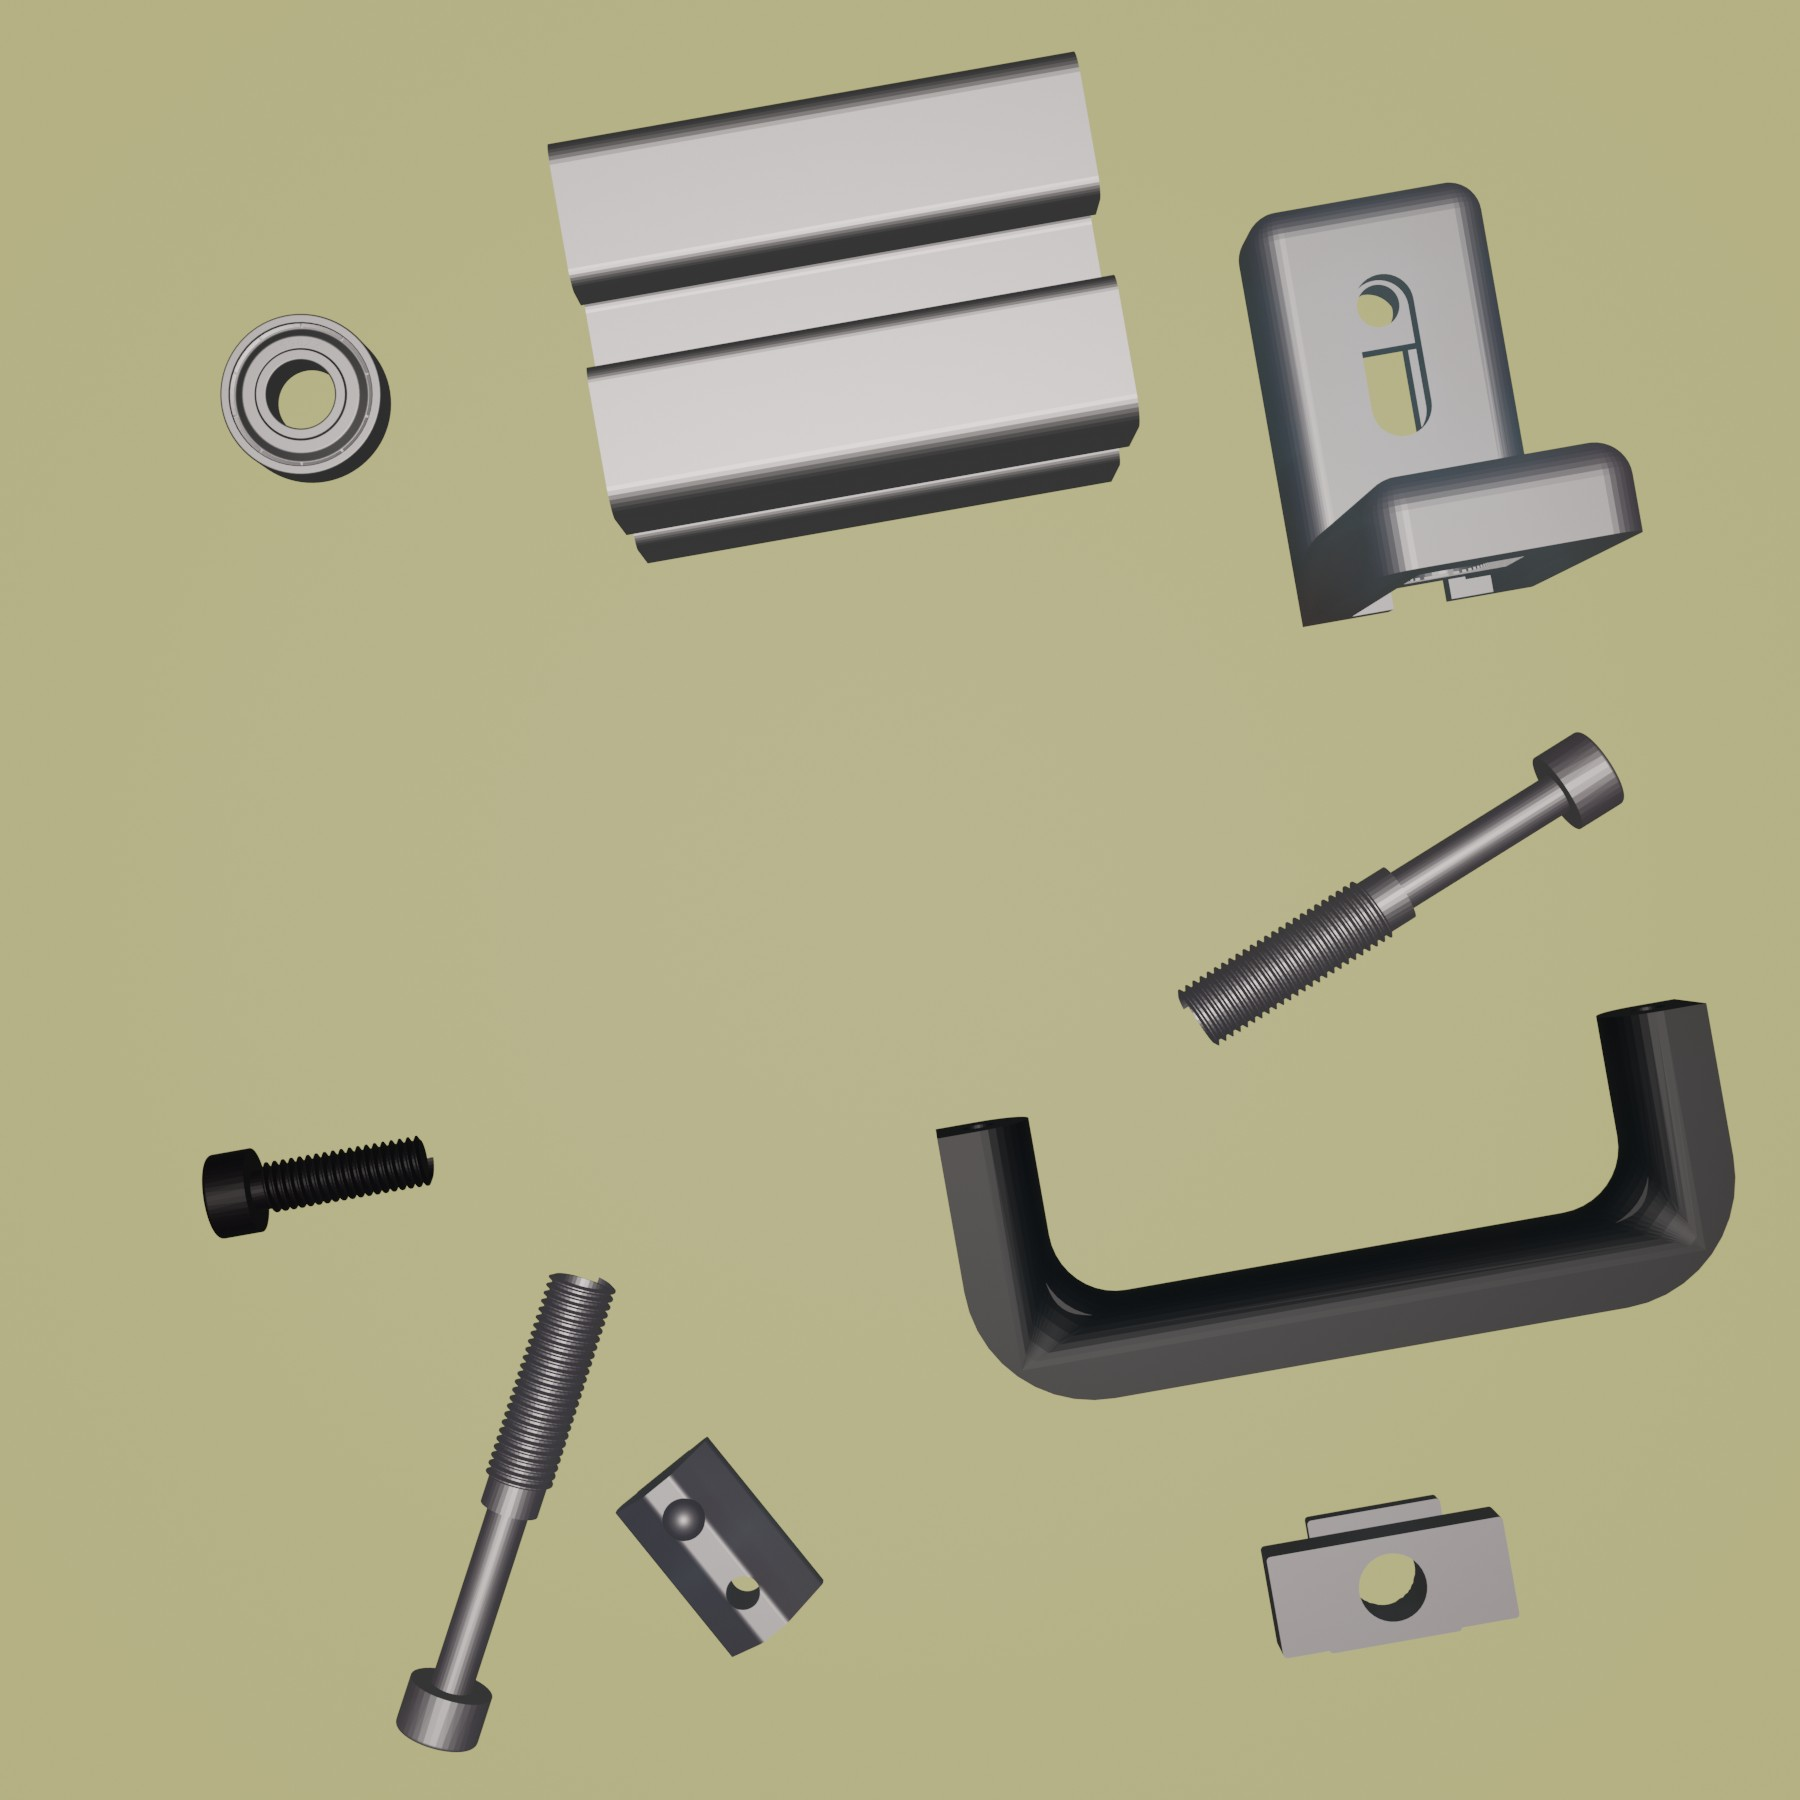Aluminium Extension: (546, 45, 1142, 569)
Ball Bearing: (218, 312, 392, 485)
Multiwinkel: (1236, 176, 1647, 631)
Pull Handle: (933, 992, 1741, 1403)
Shoulder Socket Head Cap Screw: (1179, 729, 1629, 1048), (392, 1268, 616, 1752)
Socket Head Cap Screw: (201, 1132, 437, 1240)
T Nut Square: (1258, 1488, 1525, 1662)
T Spring Nut: (612, 1434, 827, 1662)
